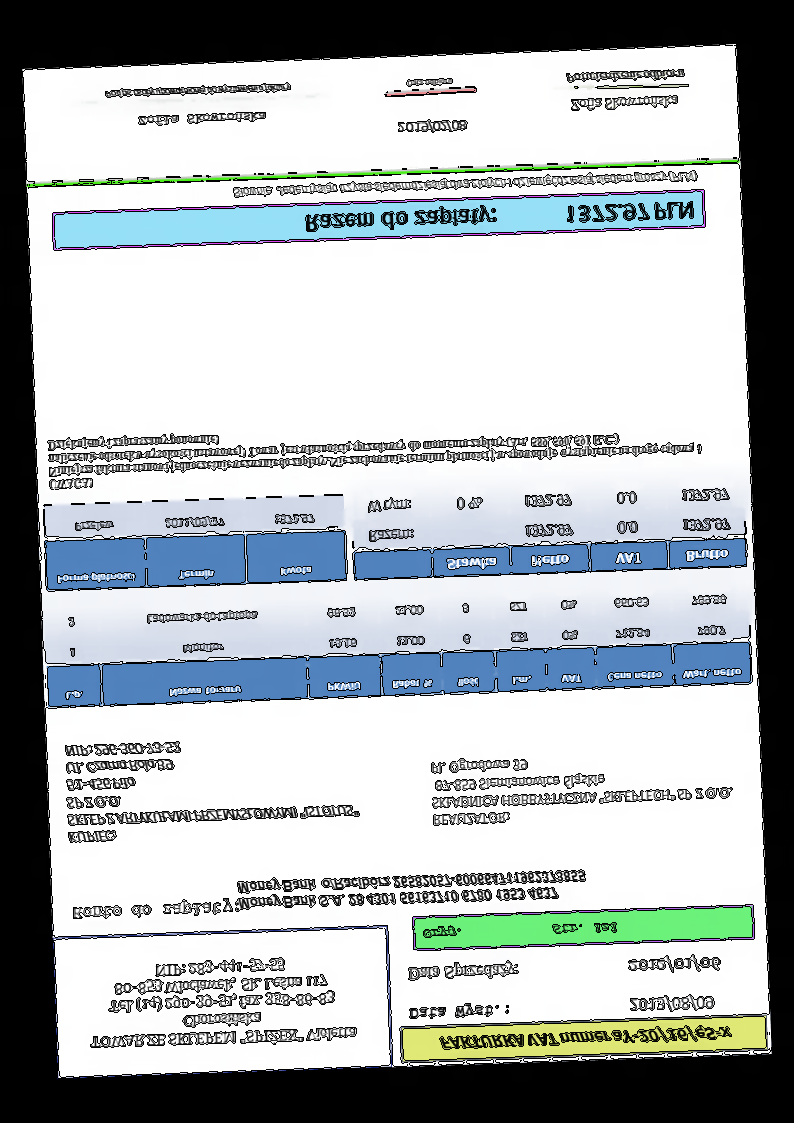Table: (43, 578, 754, 711), (349, 473, 749, 582), (42, 493, 349, 593)
TextBox: (43, 413, 707, 496), (61, 729, 363, 846), (80, 950, 362, 1055), (425, 747, 737, 831), (300, 194, 696, 241), (232, 867, 589, 913), (229, 168, 699, 202), (437, 1023, 738, 1057), (420, 918, 622, 947), (68, 896, 241, 923), (102, 82, 294, 101), (403, 960, 520, 985), (136, 109, 269, 130), (404, 1000, 513, 1025), (568, 93, 685, 115), (623, 953, 723, 978), (626, 991, 718, 1018), (562, 67, 687, 84), (394, 117, 470, 138), (403, 73, 455, 92)
